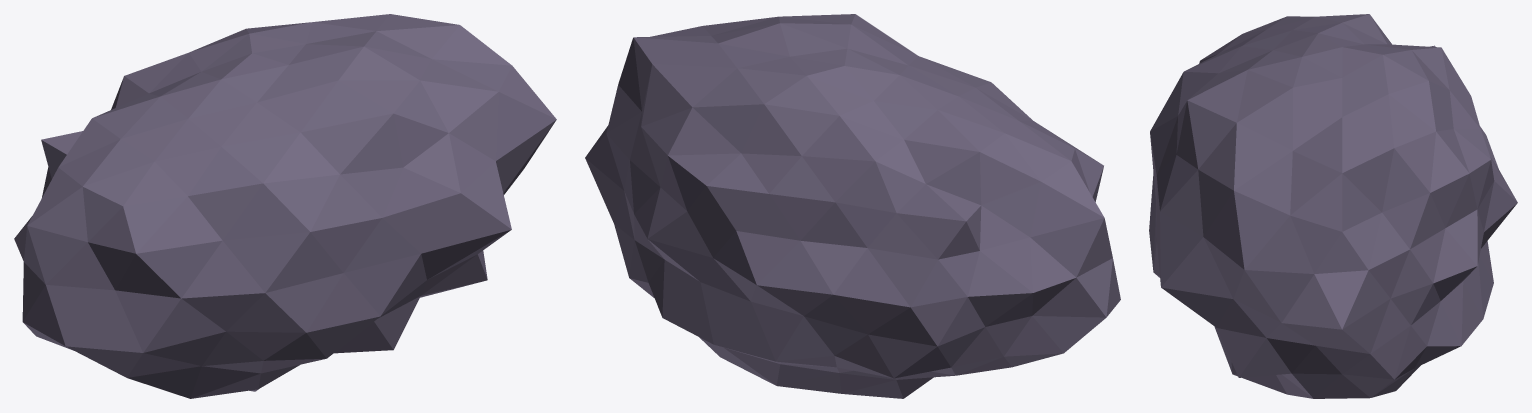
File: SM_Asteroid_04.fbx
3 renders of one model, left to right at view 1: azimuth 30°, elevation 25°; view 2: azimuth 150°, elevation 25°; view 3: azimuth 270°, elevation 25°, orthographic.
Parts seen in each view (by area): view 1: SM_Asteroid_04; view 2: SM_Asteroid_04; view 3: SM_Asteroid_04.
Boxes of the visible parts, x1=… form: SM_Asteroid_04: x1=14, y1=14, x2=556, y2=398; SM_Asteroid_04: x1=585, y1=14, x2=1120, y2=398; SM_Asteroid_04: x1=1149, y1=14, x2=1517, y2=398.
Size of the model in its own units: 1 by 0.6134 by 0.6269.
